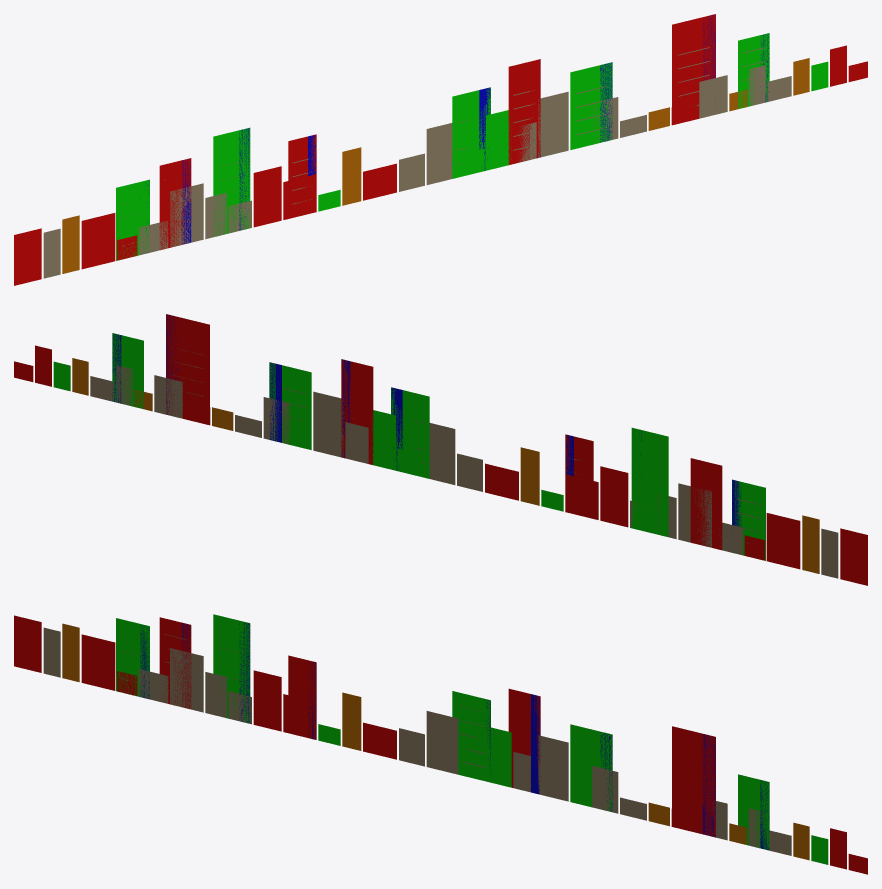
The model's file is far_city_medium.glb.
The picture shows the model from 3 angles, top to bottom: view 1: azimuth 30°, elevation 25°; view 2: azimuth 150°, elevation 25°; view 3: azimuth 330°, elevation 25°; orthographic projection.
Parts seen in each view (by area): view 1: far_city_medium; view 2: far_city_medium; view 3: far_city_medium.
Boxes of the visible parts, bbox=[...] form: far_city_medium: bbox=[14, 14, 867, 285]; far_city_medium: bbox=[14, 314, 867, 585]; far_city_medium: bbox=[14, 614, 867, 874].
Bounding box in the file's own units: 4.8 × 0.5411 × 0.
